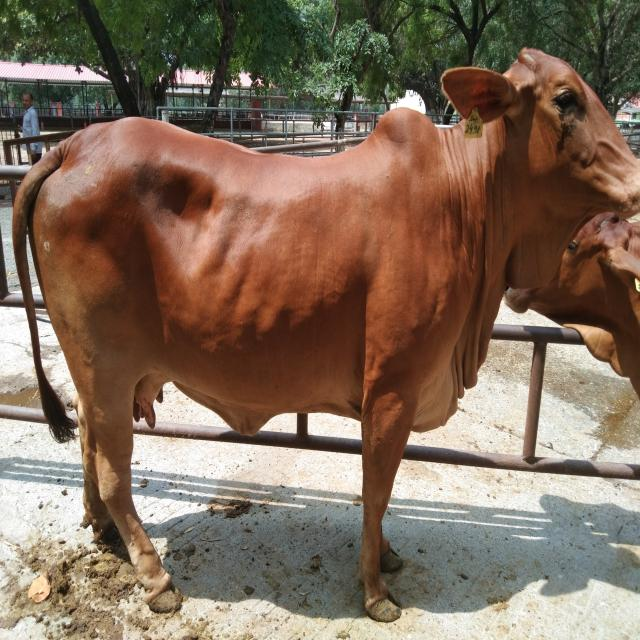1: (359, 103, 442, 145)
Hoof: (147, 582, 182, 614), (364, 594, 401, 622), (380, 547, 403, 573)
